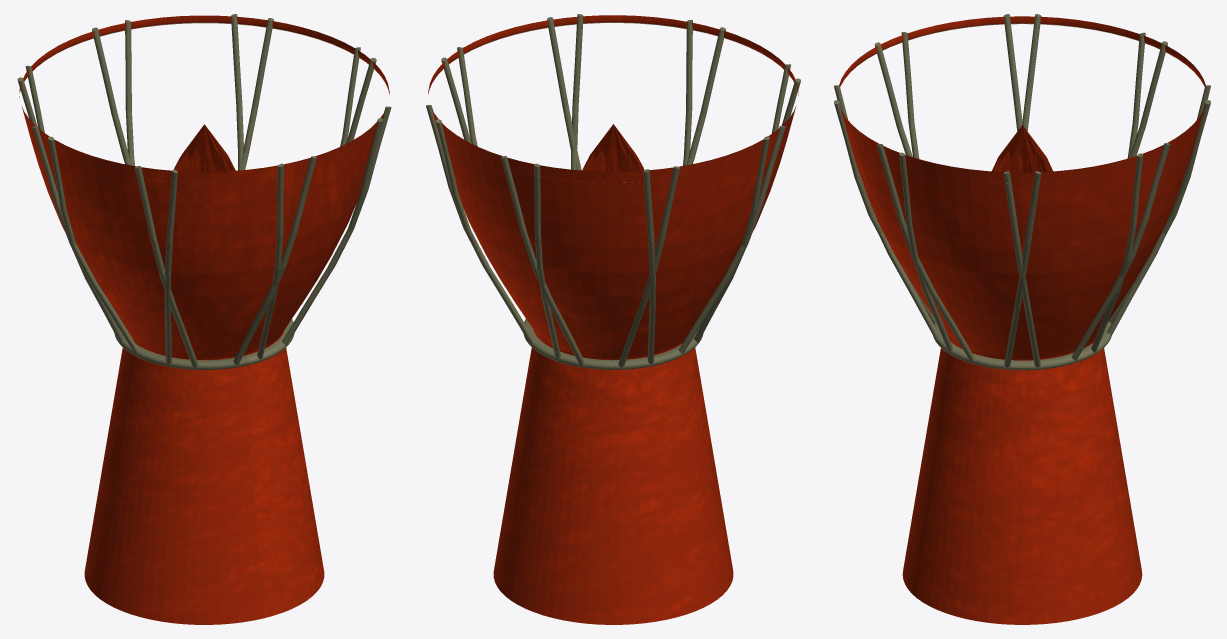
File: before.glb
3 renders of one model, left to right at view 1: azimuth 30°, elevation 25°; view 2: azimuth 150°, elevation 25°; view 3: azimuth 270°, elevation 25°, orthographic.
Visible parts, largest first — view 1: world; view 2: world; view 3: world.
Part boxes in pixels (x1,y1,x2,y2): world: (17,14,391,624); world: (426,14,800,624); world: (834,14,1210,624).
Bounding box in the file's own units: 0.985 × 1.37 × 0.985.
1 material, 1 textured.
